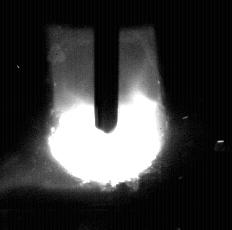arame: (95, 0, 119, 133)
poca: (47, 0, 167, 230)
